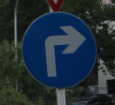right_turn: (22, 12, 96, 87)
